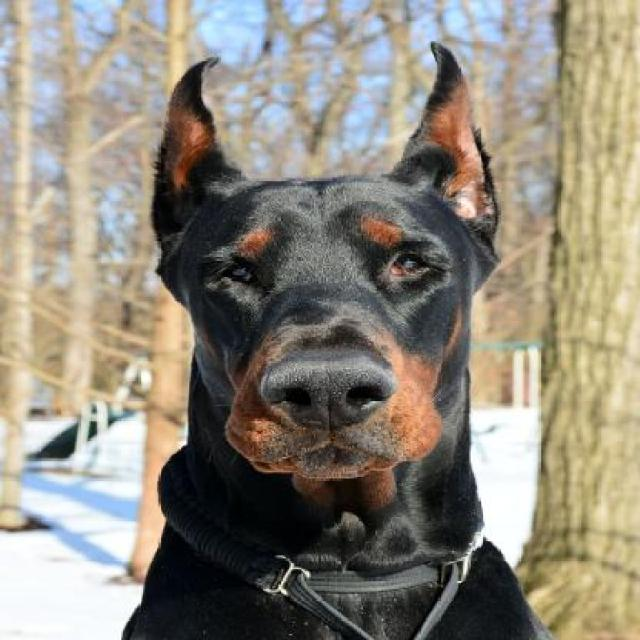animals: (98, 41, 607, 640)
